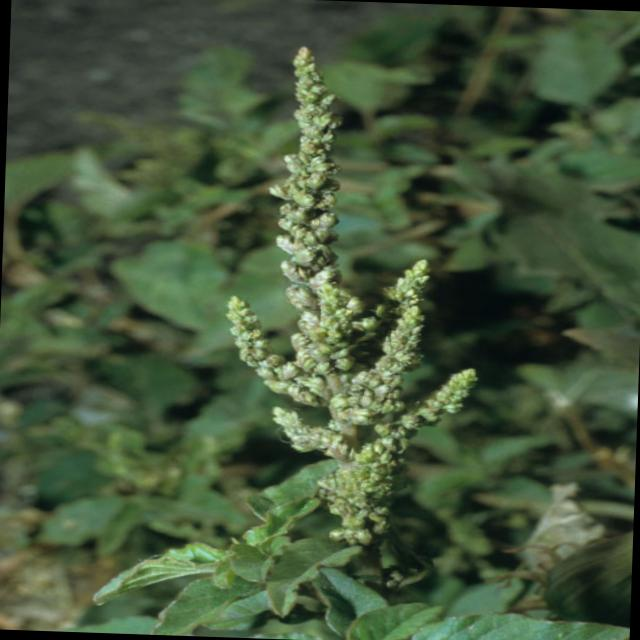Medicinal-Arive Dantu: (193, 34, 502, 638)
